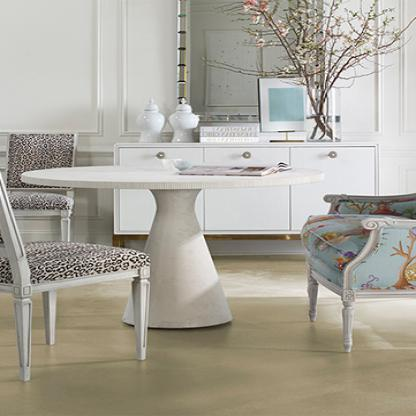chair: (0, 173, 159, 398), (295, 164, 416, 354), (0, 132, 86, 244)
table: (15, 160, 326, 333)
